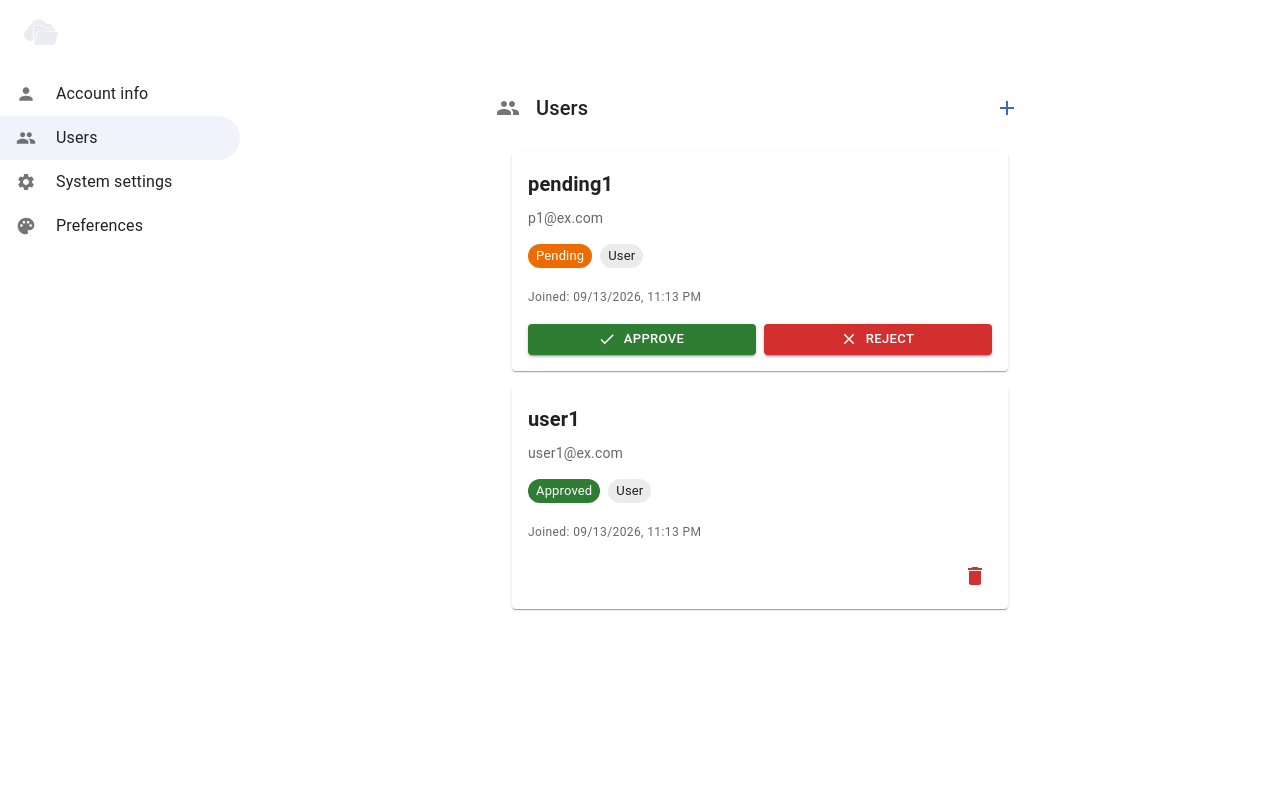
Test: MyPage Admin categories (User Management, System Settings) › admin: approves pending user
Step 1. Click the button "Approve" → x=642, y=339, box [528,324,756,355]
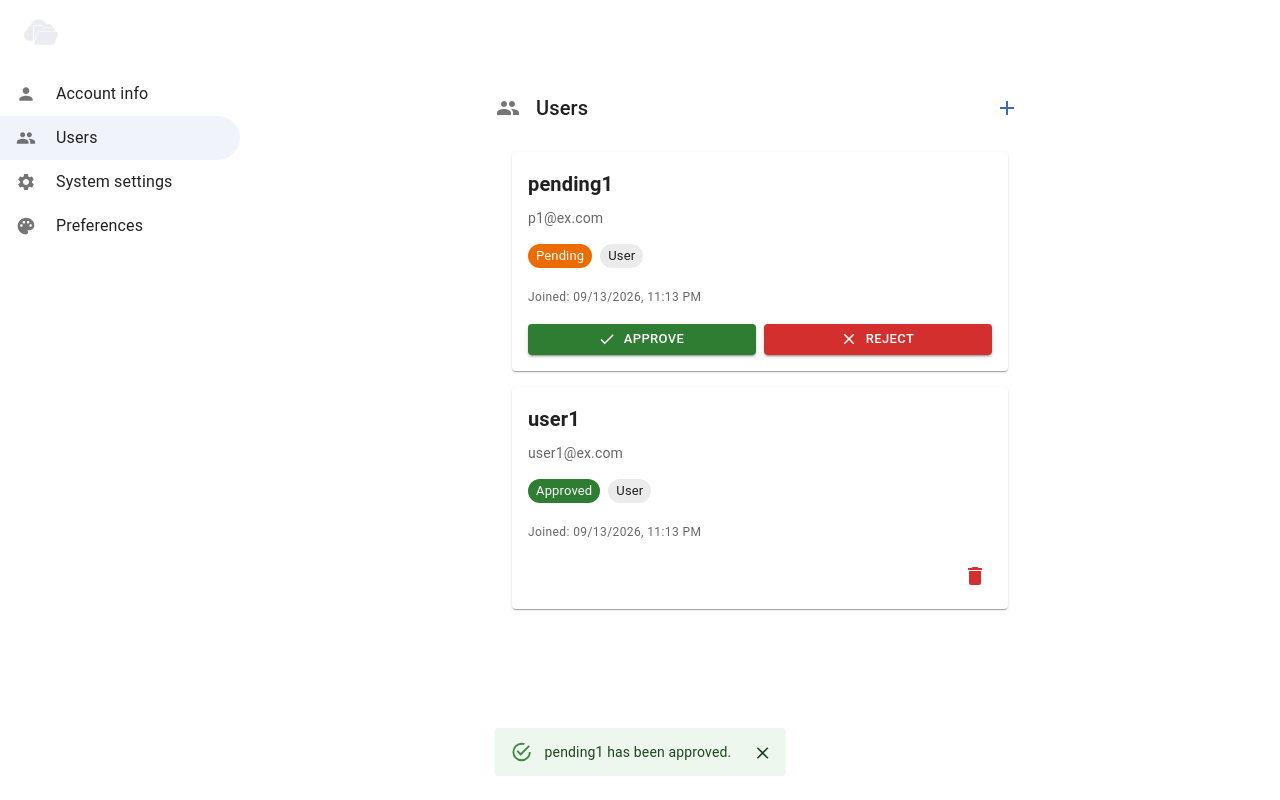
Check: the message reads "pending1 has been approved.", box [545,744,731,760]
